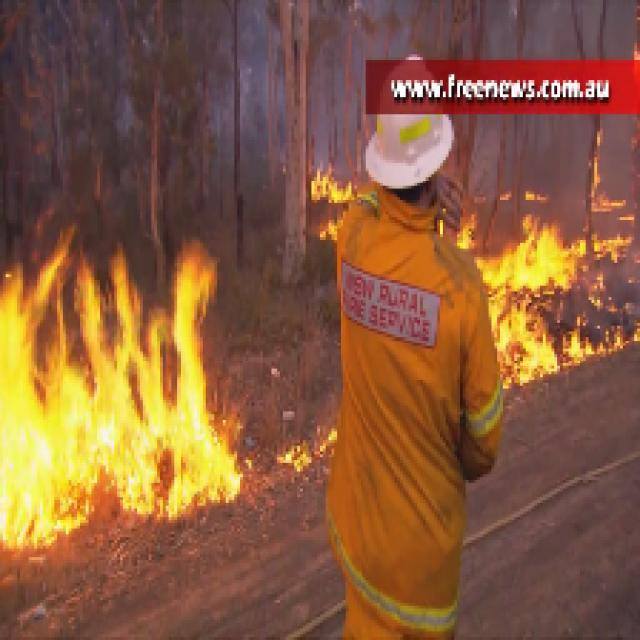fire: (0, 264, 250, 548), (485, 227, 640, 375)
